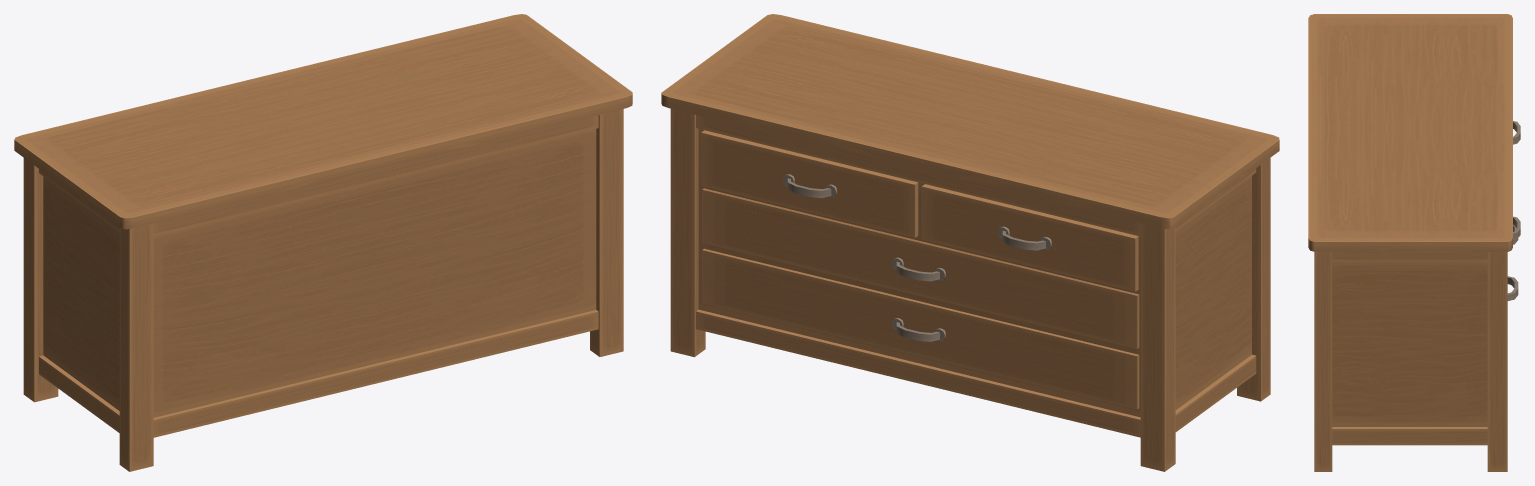
Rendered from Anim.fbx.
The picture shows the model from 3 angles, left to right: view 1: azimuth 30°, elevation 25°; view 2: azimuth 150°, elevation 25°; view 3: azimuth 270°, elevation 25°; orthographic projection. The views are drawn at different scales.
Visible parts, largest first — view 1: Drawers; view 2: Drawers, Draw; view 3: Drawers.
Boxes of the visible parts, x1,y1,x2,y2 form: Drawers: [14, 14, 632, 471]; Drawers: [661, 14, 1279, 471]; Draw: [702, 188, 1139, 348]; Drawers: [1308, 14, 1520, 471].
Bounding box in the file's own units: 3.47 × 1.66 × 1.37.
